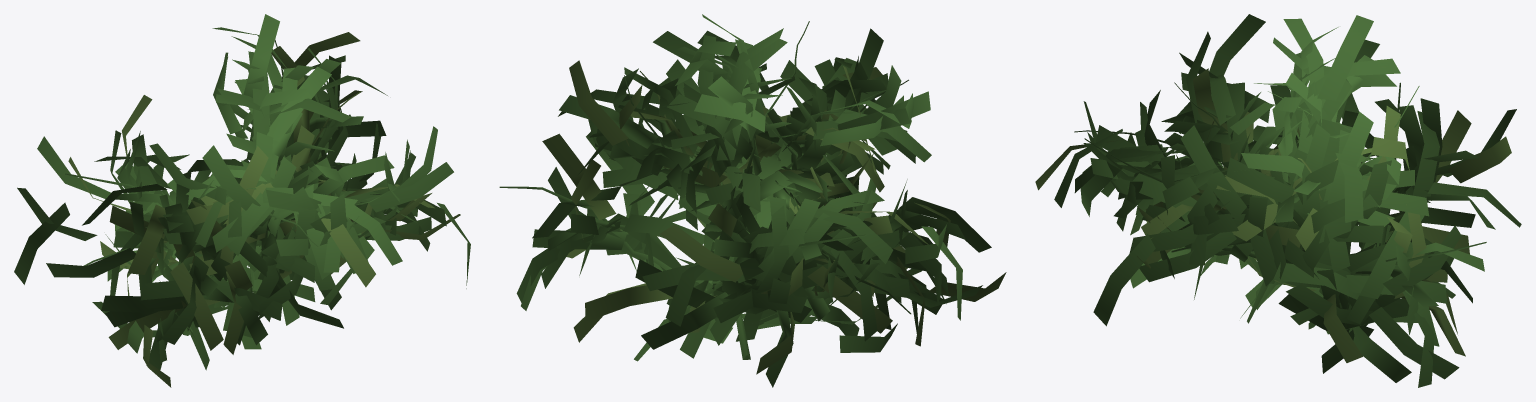
Rendered from arbusto_1.glb.
3 renders of one model, left to right at view 1: azimuth 30°, elevation 25°; view 2: azimuth 150°, elevation 25°; view 3: azimuth 270°, elevation 25°, orthographic. The views are drawn at different scales.
Parts seen in each view (by area): view 1: arbusto_1; view 2: arbusto_1; view 3: arbusto_1.
Part boxes in pixels (<box>): arbusto_1: <box>14,14,470,387</box>; arbusto_1: <box>499,14,1006,387</box>; arbusto_1: <box>1035,14,1521,387</box>.
Bounding box in the file's own units: 1.06 × 0.8171 × 1.06.
